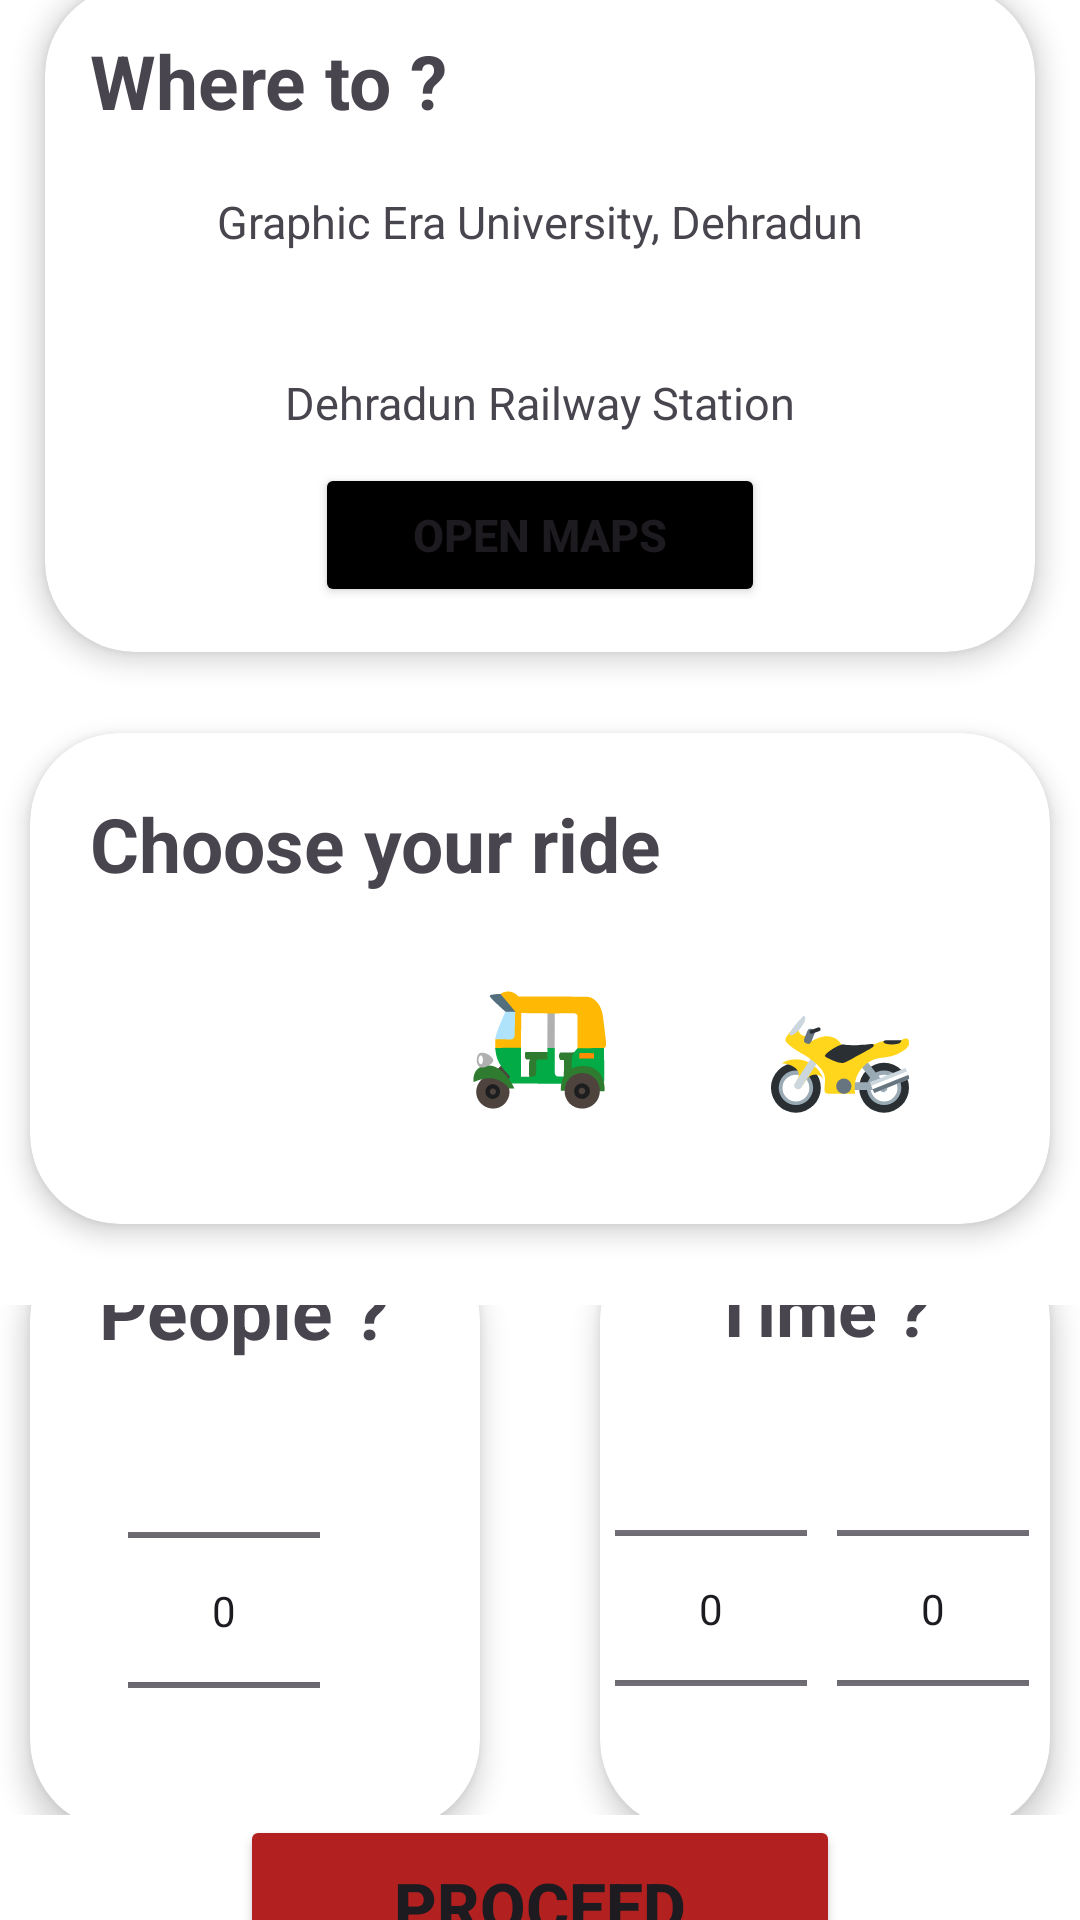

Screen size 1080px×1920px. Icon name, then its box in pixels as (x1, y1, x2, y2):
auto: (473, 991, 606, 1109)
bike: (771, 1016, 909, 1113)
